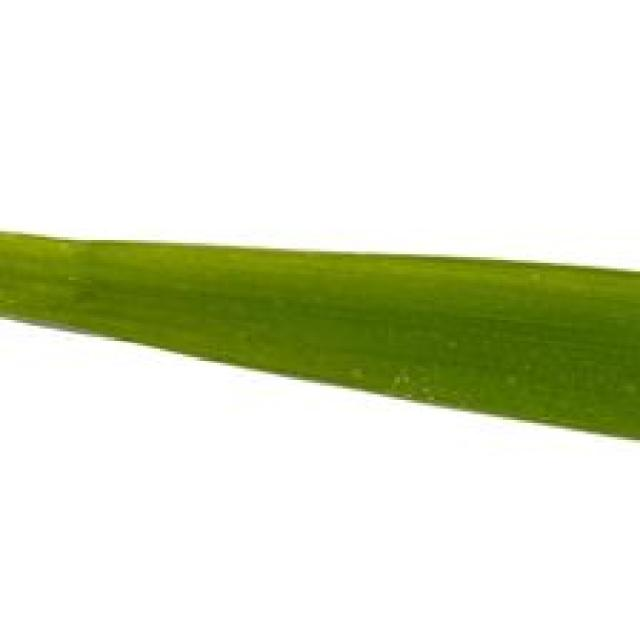Rice___Healthy_Rice_Plant: (0, 226, 637, 447)
